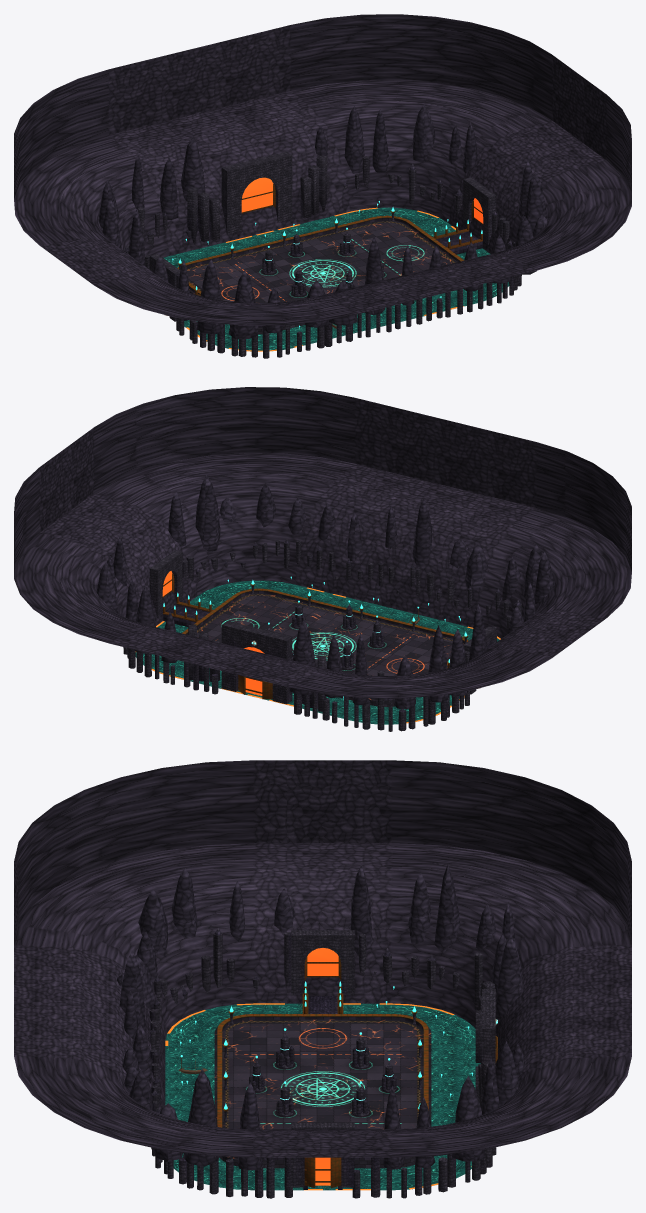
The model's file is arena_underworld.glb.
3 views of the same model, one above another, from view 1: azimuth 30°, elevation 25°; view 2: azimuth 150°, elevation 25°; view 3: azimuth 270°, elevation 25° (orthographic). The views are drawn at different scales.
Visible parts, largest first — view 1: Decor, Far, Ground, Water, Walls; view 2: Decor, Far, Ground, Water, Walls; view 3: Decor, Far, Ground, Water, Walls.
Boxes of the visible parts, x1=… form: Decor: x1=14, y1=14, x2=631, y2=358; Far: x1=98, y1=104, x2=547, y2=351; Ground: x1=187, y1=220, x2=457, y2=328; Water: x1=163, y1=207, x2=509, y2=351; Walls: x1=177, y1=215, x2=463, y2=334; Decor: x1=14, y1=387, x2=631, y2=731; Far: x1=96, y1=475, x2=555, y2=723; Ground: x1=197, y1=593, x2=464, y2=701; Water: x1=135, y1=580, x2=499, y2=724; Walls: x1=182, y1=588, x2=468, y2=706; Decor: x1=14, y1=760, x2=631, y2=1198; Far: x1=117, y1=864, x2=525, y2=1190; Ground: x1=214, y1=1019, x2=431, y2=1161; Water: x1=165, y1=1003, x2=480, y2=1190; Walls: x1=217, y1=1014, x2=428, y2=1168.
Size of the model in its own units: 118 by 31.8 by 98.
Materials: 11 (6 with a texture image).
